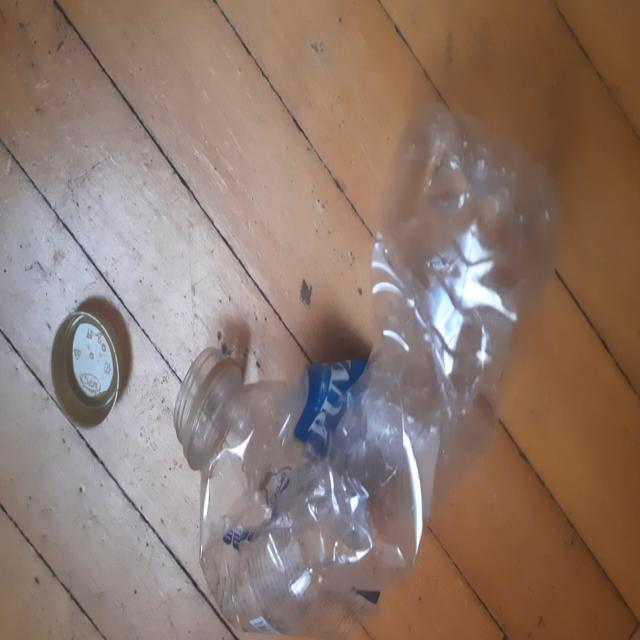Plastic: (174, 100, 560, 636)
